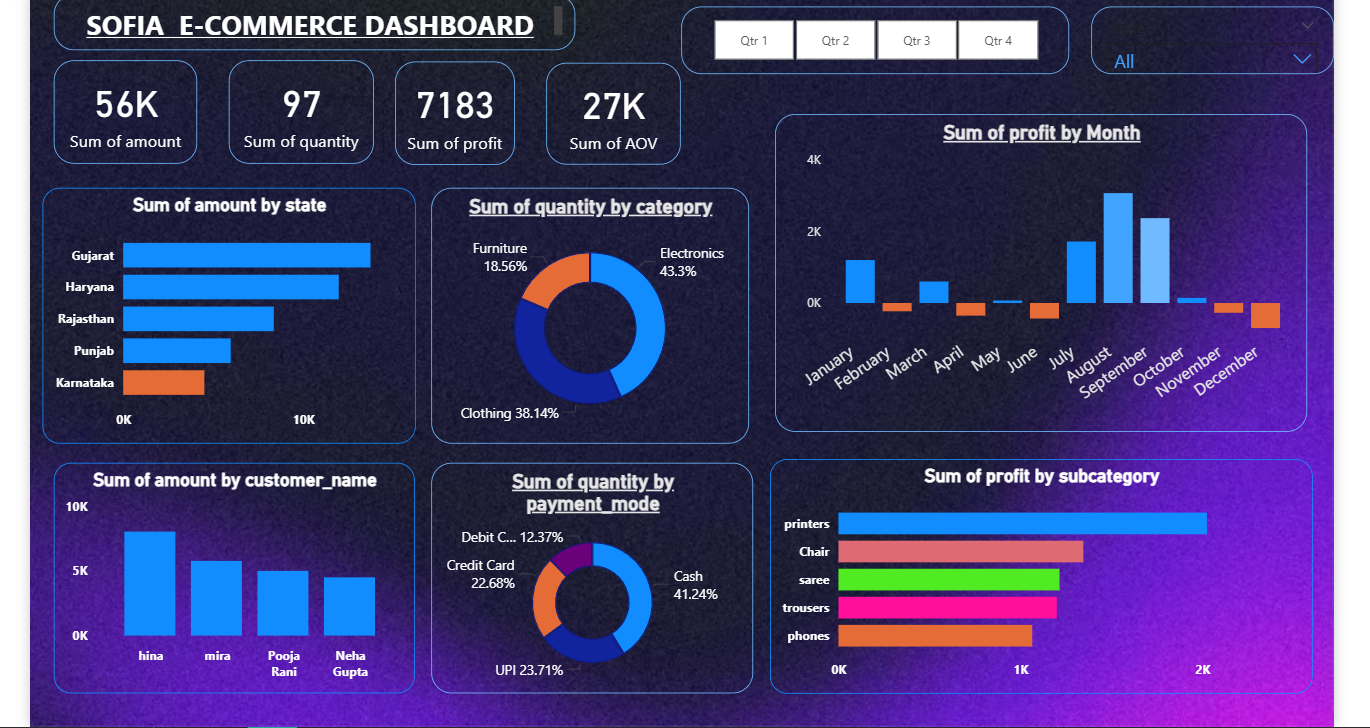

What the dashboard file says about the page in this screenshot:
{"tool":"powerbi","page":{"name":"Page 1","canvas":[1280,720],"ordinal":0},"visuals":[{"type":"textbox","box":[23.3,0,511.7,55.2],"z":0},{"type":"columnChart","fields":{"Category":["table 1 11.order_date.Variation.Date Hierarchy.Month"],"Y":["Sum(table 2 22.profit)"]},"box":[731.3,117.8,522.7,311.7],"z":1000},{"type":"barChart","fields":{"Category":["table 2 22.subcategory"],"Y":["Sum(table 2 22.profit)"]},"box":[726.4,456.4,532.5,230.7],"z":2000},{"type":"donutChart","fields":{"Category":["table 2 22.category"],"Y":["Sum(table 2 22.quantity)"]},"box":[394.1,189.7,311.8,251.5],"z":3000},{"type":"donutChart","fields":{"Category":["table 2 22.payment_mode","table 2 22.category"],"Y":["Sum(table 2 22.quantity)"]},"box":[394.1,460.3,316.2,226.5],"z":4000},{"type":"card","fields":{"Values":["Sum(table 2 22.amount)"]},"box":[23.5,64.7,141.2,101.5],"z":5000},{"type":"card","fields":{"Values":["Sum(table 2 22.quantity)"]},"box":[195.6,64.7,142.6,101.5],"z":6000},{"type":"card","fields":{"Values":["Sum(table 2 22.profit)"]},"box":[358.8,66.2,117.6,101.5],"z":7000},{"type":"card","fields":{"Values":["Sum(table 2 22.AOV)"]},"box":[507.4,67.6,132.4,100],"z":8000},{"type":"barChart","fields":{"Category":["table 1 11.state"],"Y":["Sum(table 2 22.amount)"]},"box":[11.8,189.7,366.2,251.5],"z":9000},{"type":"columnChart","fields":{"Category":["table 1 11.customer_name"],"Y":["Sum(table 2 22.amount)"]},"box":[23.5,460.3,354.4,226.5],"z":10000},{"type":"slicer","fields":{"Values":["table 1 11.order_date.Variation.Date Hierarchy.Quarter"]},"box":[639.7,11.8,380.9,66.2],"z":11000},{"type":"slicer","fields":{"Values":["table 1 11.state"]},"box":[1041.2,11.8,238.2,66.2],"z":12000}]}

Visuals, with their boxes on the page's 1280x720 design canvas (x1, y1, x2, y2). These are canvas units, not pixel positions in the 1370x728 screenshot, which may show the page scaled, cropped or inside an application window:
textbox: x1=23, y1=0, x2=535, y2=55
columnChart - table 1 11.order_date.Variation.Date Hierarchy.Month x Sum(table 2 22.profit): x1=731, y1=118, x2=1254, y2=430
barChart - table 2 22.subcategory x Sum(table 2 22.profit): x1=726, y1=456, x2=1259, y2=687
donutChart - table 2 22.category x Sum(table 2 22.quantity): x1=394, y1=190, x2=706, y2=441
donutChart - table 2 22.payment_mode x table 2 22.category: x1=394, y1=460, x2=710, y2=687
card - Sum(table 2 22.amount): x1=24, y1=65, x2=165, y2=166
card - Sum(table 2 22.quantity): x1=196, y1=65, x2=338, y2=166
card - Sum(table 2 22.profit): x1=359, y1=66, x2=476, y2=168
card - Sum(table 2 22.AOV): x1=507, y1=68, x2=640, y2=168
barChart - table 1 11.state x Sum(table 2 22.amount): x1=12, y1=190, x2=378, y2=441
columnChart - table 1 11.customer_name x Sum(table 2 22.amount): x1=24, y1=460, x2=378, y2=687
slicer - table 1 11.order_date.Variation.Date Hierarchy.Quarter: x1=640, y1=12, x2=1021, y2=78
slicer - table 1 11.state: x1=1041, y1=12, x2=1279, y2=78
